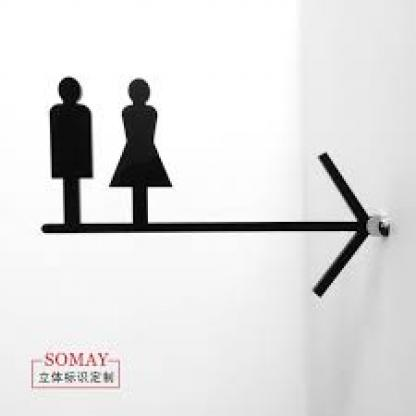toilet: (49, 73, 177, 224)
